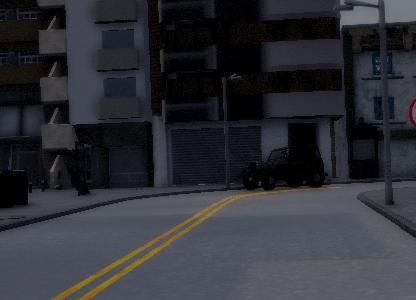Speed_30: (405, 88, 416, 136)
